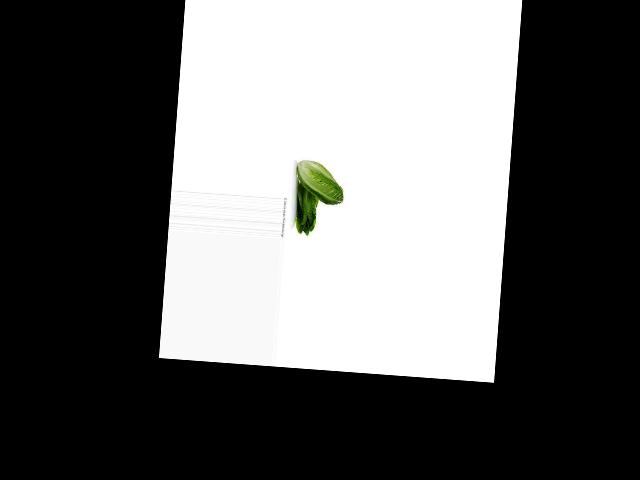lettuce: (287, 182, 324, 235)
